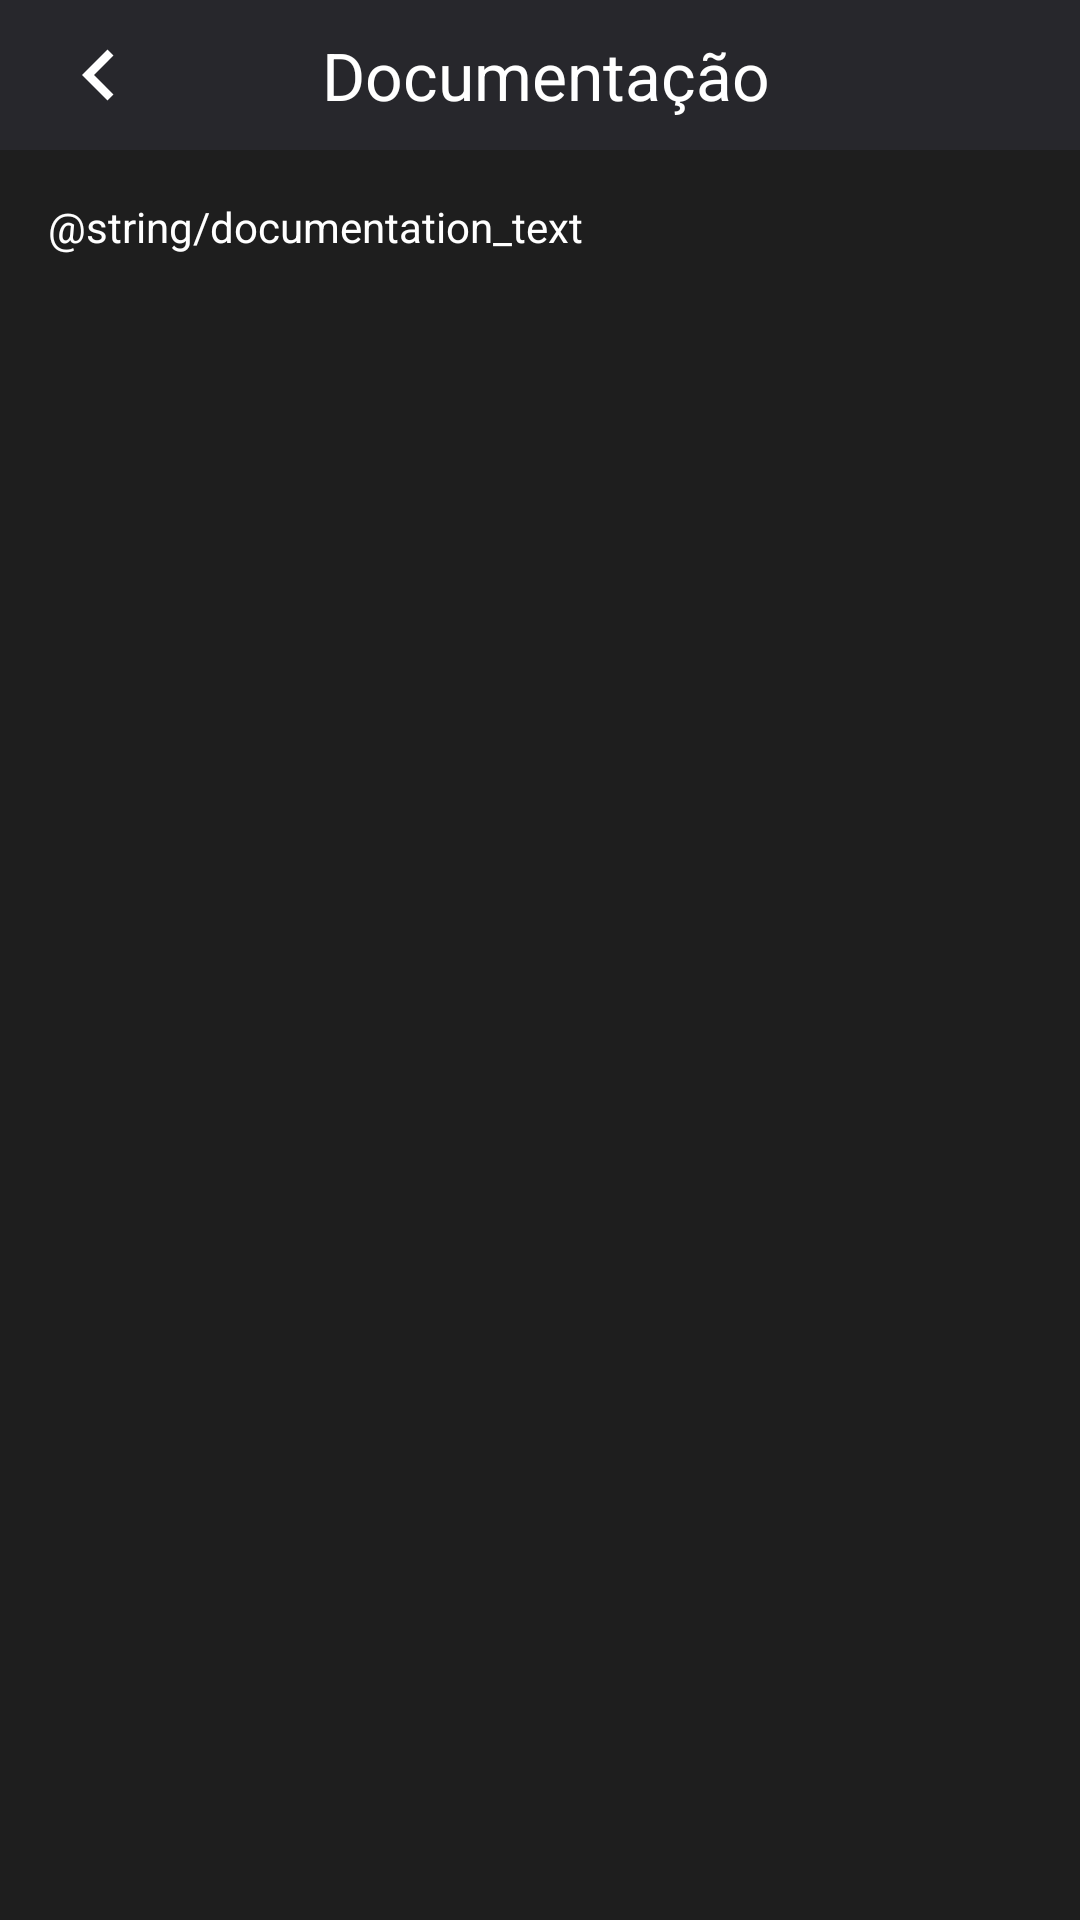

Where icons sit on this 1080x1920 app screen, as (left=x1, top=y1, right=x2, bottom=y2):
Seta: (left=82, top=49, right=114, bottom=101)
